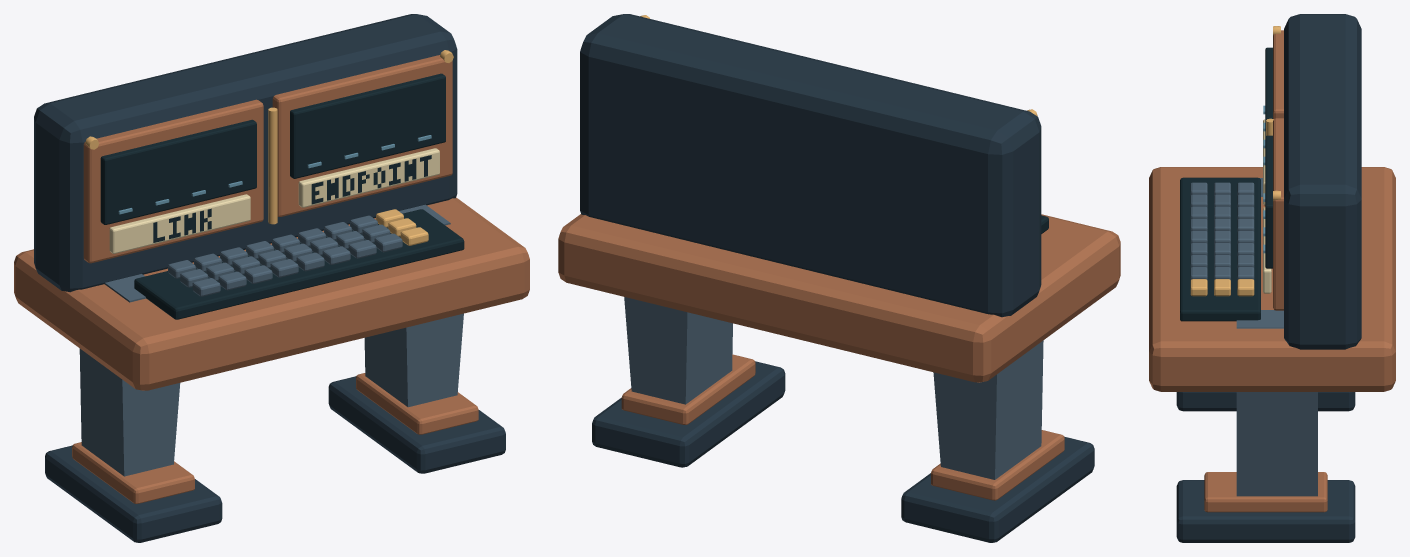
3 renders of one model, left to right at view 1: azimuth 30°, elevation 25°; view 2: azimuth 150°, elevation 25°; view 3: azimuth 270°, elevation 25°, orthographic. The views are drawn at different scales.
Visible parts, largest first — view 1: PR113 enamel and hardware; view 2: PR113 enamel and hardware; view 3: PR113 enamel and hardware.
Part boxes in pixels (x1,y1,x2,y2): PR113 enamel and hardware: (14, 14, 529, 542); PR113 enamel and hardware: (558, 14, 1120, 542); PR113 enamel and hardware: (1149, 14, 1395, 542).
Bounding box in the file's own units: 1.32 × 1.2 × 0.7469.
